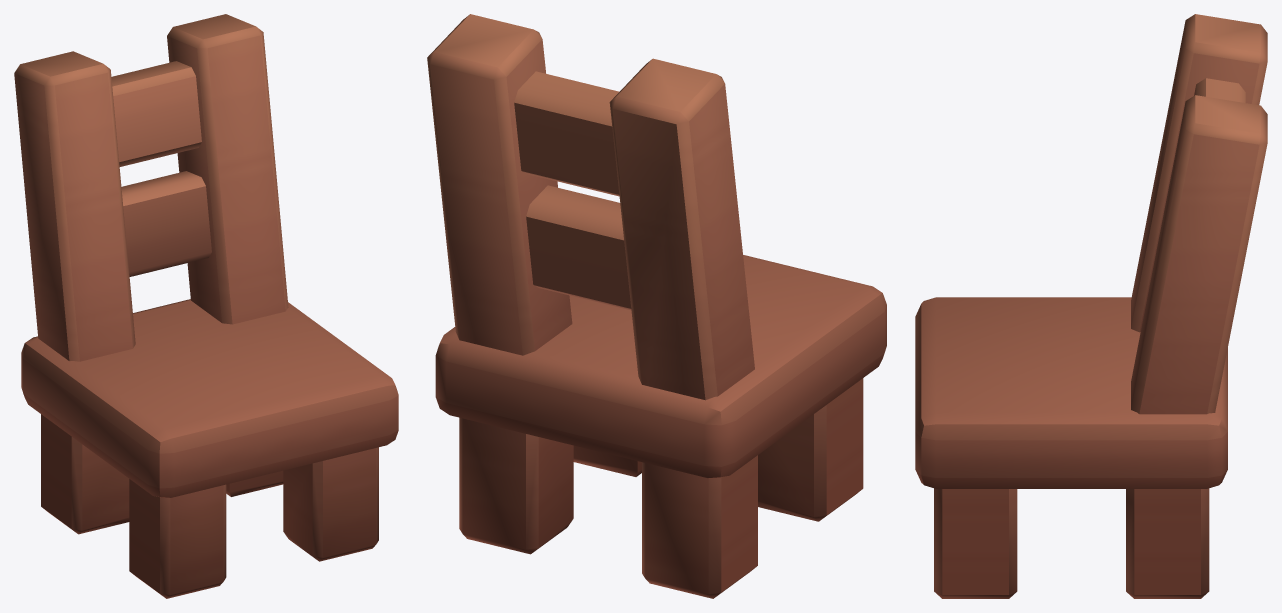
The model's file is chair-a-wood.glb.
The picture shows the model from 3 angles, left to right: view 1: azimuth 30°, elevation 25°; view 2: azimuth 150°, elevation 25°; view 3: azimuth 270°, elevation 25°; orthographic projection. The views are drawn at different scales.
Parts seen in each view (by area): view 1: chair_A_wood; view 2: chair_A_wood; view 3: chair_A_wood.
Part boxes in pixels (x1,y1,x2,y2): chair_A_wood: (14, 14, 398, 598); chair_A_wood: (427, 14, 886, 598); chair_A_wood: (915, 14, 1267, 598).
Size of the model in its own units: 0.75 by 1.26 by 0.8451.
1 material, 1 textured.
